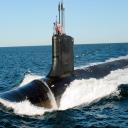submarine: (2, 1, 128, 118)
